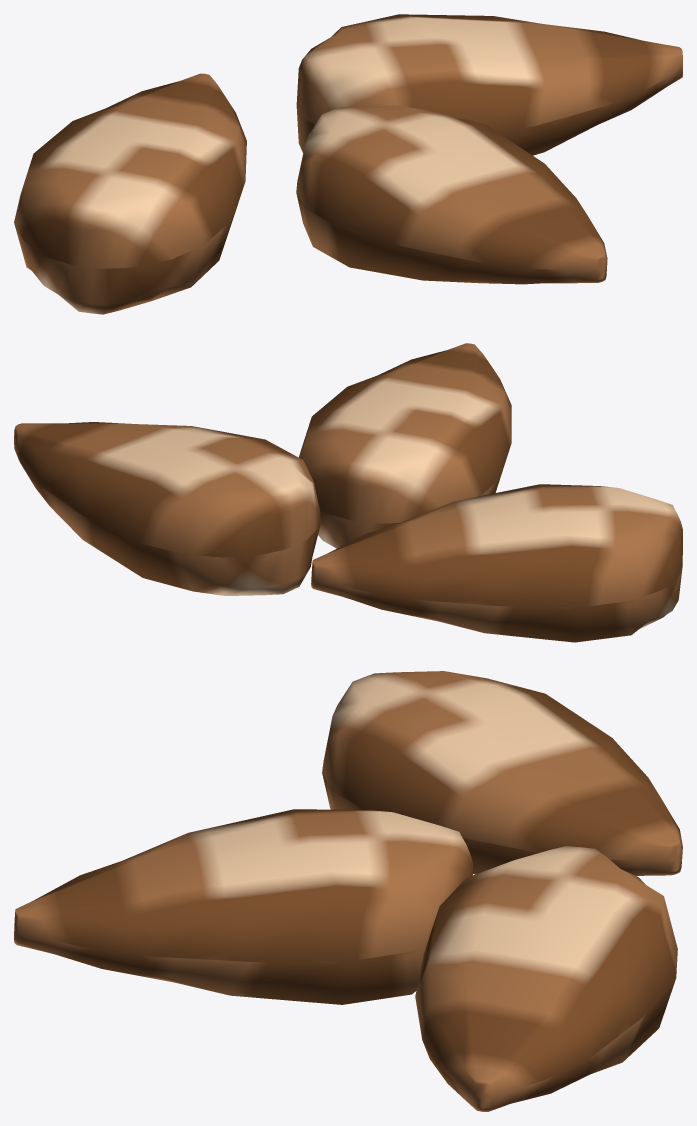
The model's file is Elderberry Seeds Version2.fbx.
3 renders of one model, top to bottom at view 1: azimuth 30°, elevation 25°; view 2: azimuth 150°, elevation 25°; view 3: azimuth 270°, elevation 25°, orthographic. The views are drawn at different scales.
Visible parts, largest first — view 1: Elderberry_Seed_Drop4; view 2: Elderberry_Seed_Drop4; view 3: Elderberry_Seed_Drop4.
Part boxes in pixels (<box>): Elderberry_Seed_Drop4: <box>14,14,682,314</box>; Elderberry_Seed_Drop4: <box>14,343,682,642</box>; Elderberry_Seed_Drop4: <box>14,671,682,1111</box>.
Size of the model in its own units: 12.67 by 2.18 by 9.35.
Materials: 1 (1 with a texture image).
